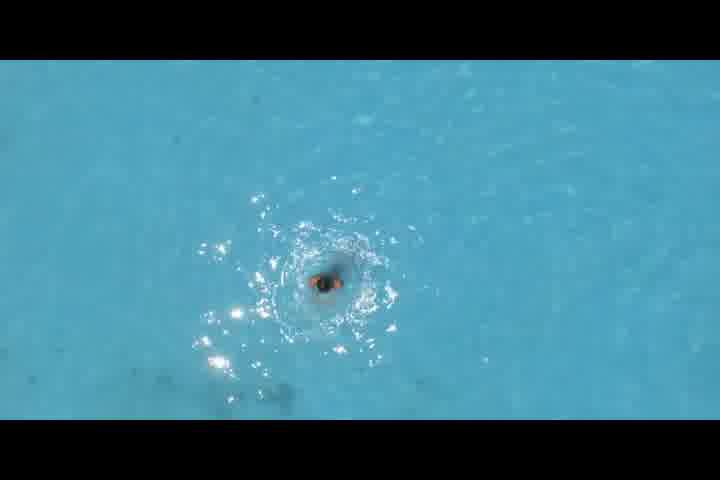swimmer: (306, 269, 346, 296)
